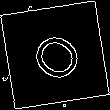O_SE: (21, 22, 89, 88)
